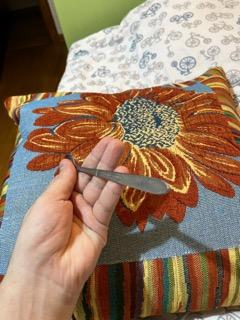fork: (56, 153, 169, 196)
